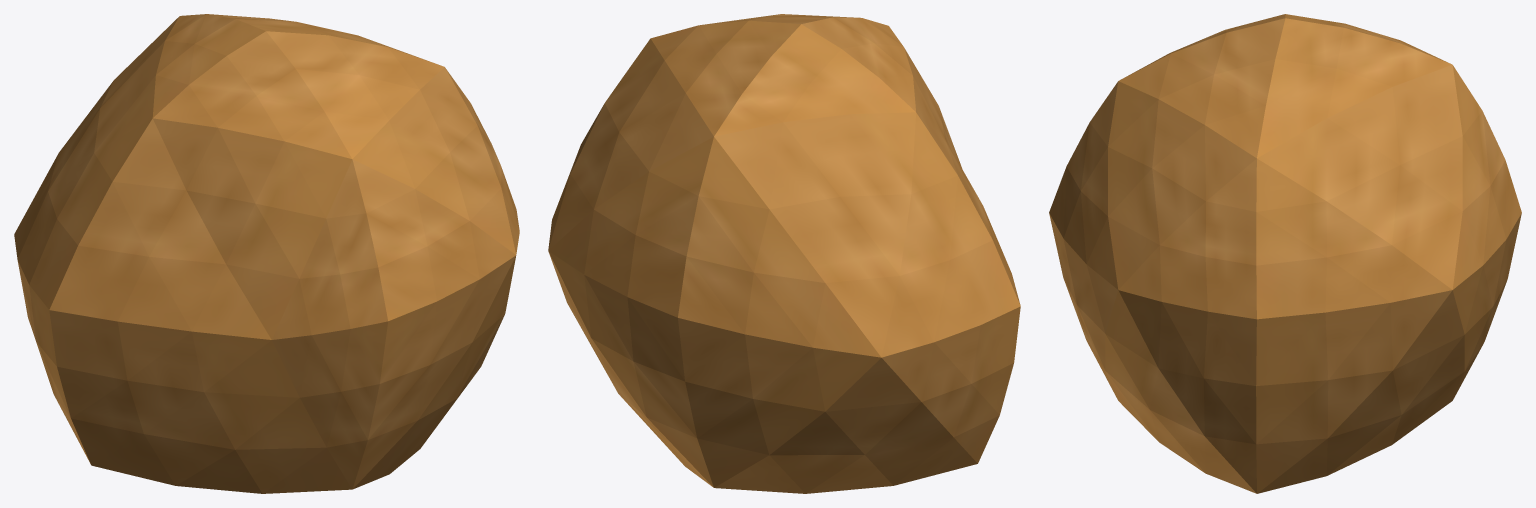
File: stone.obj
3 renders of one model, left to right at view 1: azimuth 30°, elevation 25°; view 2: azimuth 150°, elevation 25°; view 3: azimuth 270°, elevation 25°, orthographic. The views are drawn at different scales.
Visible parts, largest first — view 1: ColobotMesh_1_ColobotMesh_; view 2: ColobotMesh_1_ColobotMesh_; view 3: ColobotMesh_1_ColobotMesh_.
Boxes of the visible parts, x1,y1,x2,y2 form: ColobotMesh_1_ColobotMesh_: (14, 14, 519, 493); ColobotMesh_1_ColobotMesh_: (548, 14, 1020, 493); ColobotMesh_1_ColobotMesh_: (1049, 14, 1521, 493).
Bounding box in the file's own units: 2.39 × 2.25 × 2.29.
